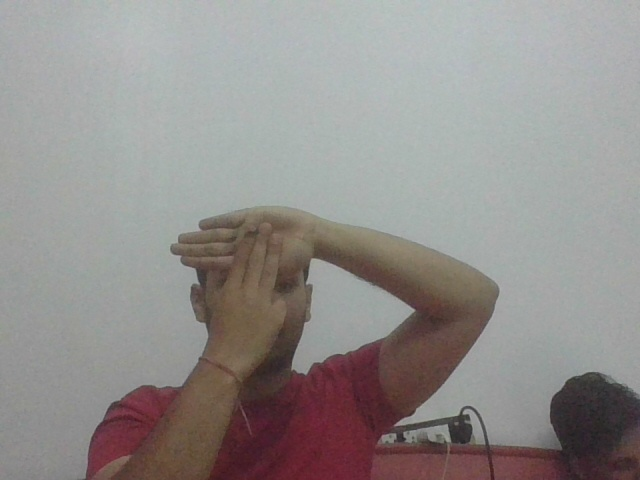M: (168, 204, 311, 348)
